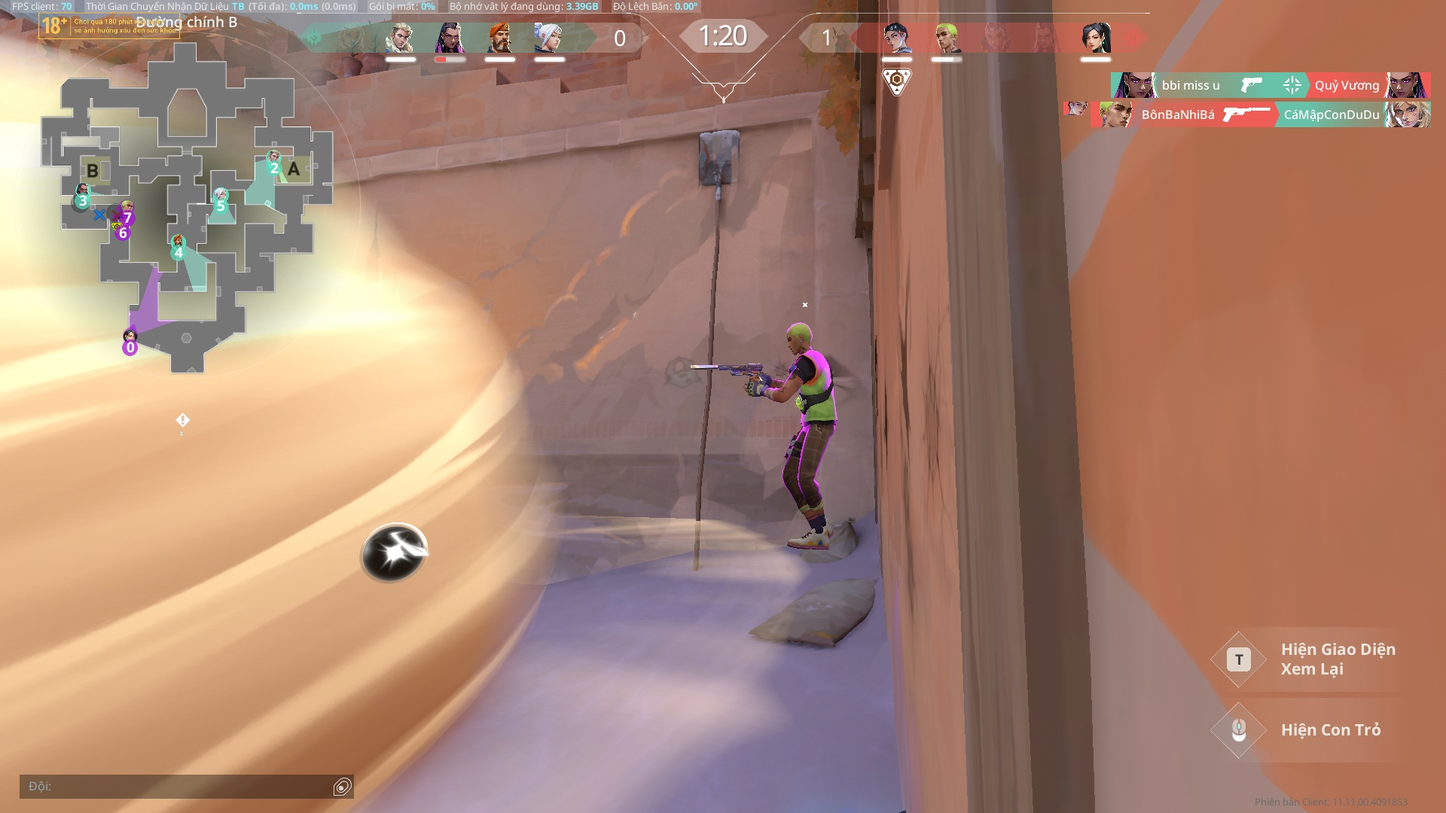body: (790, 352, 840, 410)
head: (782, 324, 817, 353)
